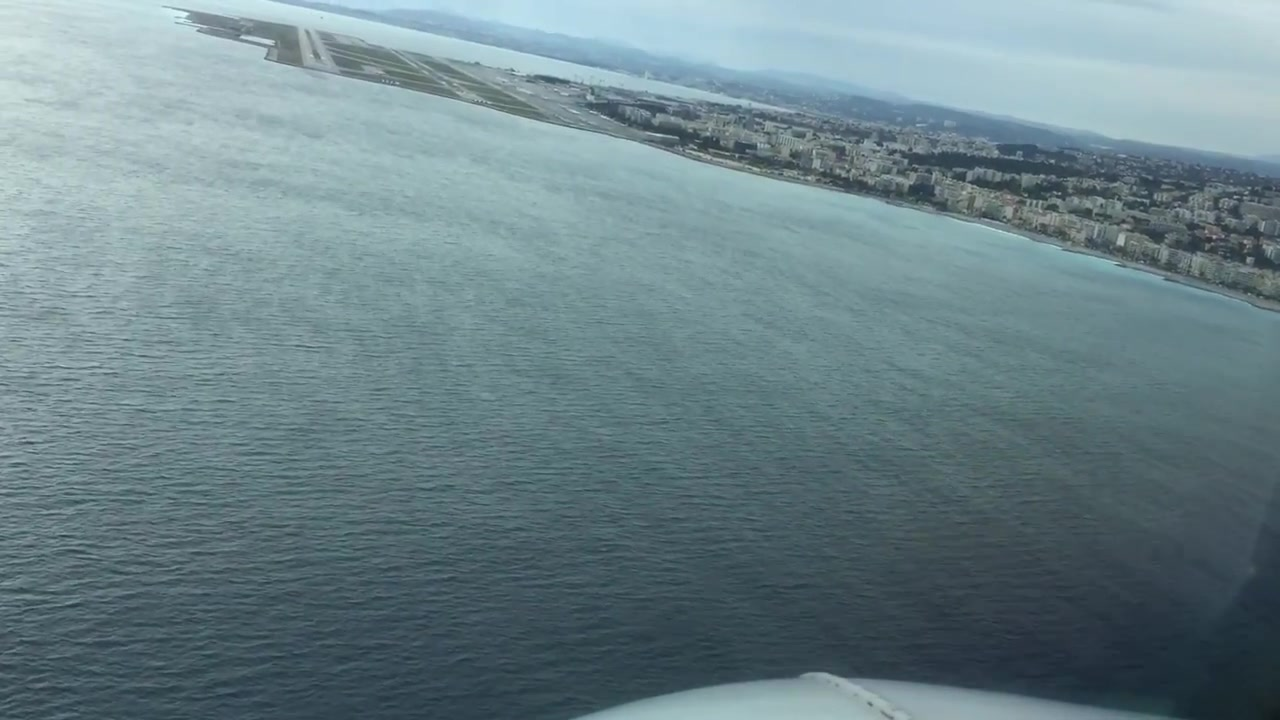runway: (386, 45, 492, 105), (296, 25, 339, 71)
